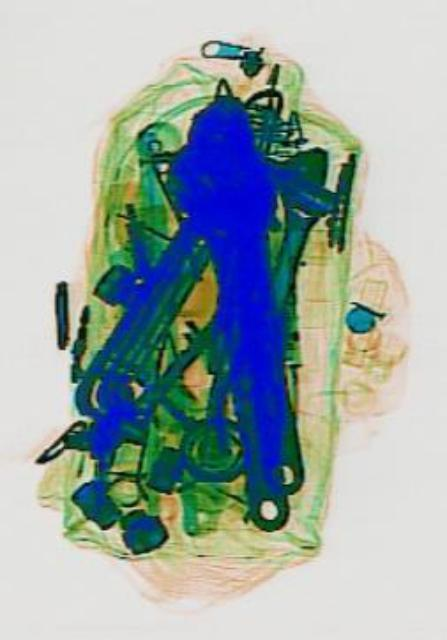Wrench: (237, 128, 341, 312)
